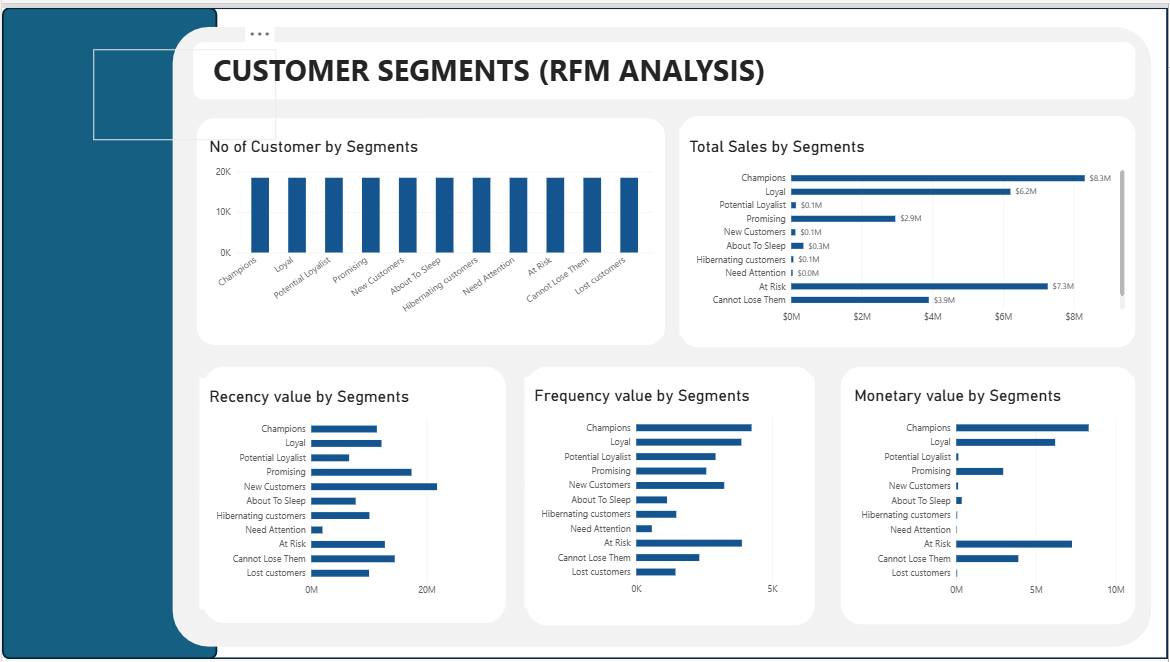

Layout of this report page (visuals, bound fields, positions):
{"tool":"powerbi","page":{"name":"Customer Segementation","canvas":[1920,1080],"ordinal":1},"visuals":[{"type":"columnChart","title":"No of Customer by Segments","fields":{"Category":["Segments Table.Segment"],"Y":["CountNonNull(DimCustomer.CustomerKey)"]},"box":[325.2,197.6,763.6,341.7],"z":0},{"type":"clusteredBarChart","title":"Total Sales by Segments","fields":{"Category":["Segments Table.Segment"],"Y":["Sum(FactInternetSales.SalesAmount)"]},"box":[1115.6,197.6,749.2,341.7],"z":1000},{"type":"barChart","title":"Recency value by Segments","fields":{"Y":["Sum(RFM Table.Recency value)"],"Category":["Segments Table.Segment"]},"box":[325.2,609.3,500.2,380.8],"z":2000},{"type":"barChart","title":"Frequency value by Segments","fields":{"Category":["Segments Table.Segment"],"Y":["Sum(RFM Table.Frequency Value)"]},"box":[860.4,607.2,477.5,380.8],"z":3000},{"type":"barChart","title":"Monetary value by Segments","fields":{"Category":["Segments Table.Segment"],"Y":["Sum(RFM Table.Monetary Value)"]},"box":[1387.3,607.2,477.5,382.8],"z":4000},{"type":"textbox","box":[150,68.5,300,150],"z":5000},{"type":"textbox","box":[347.5,67.5,1055,75],"z":6000}]}

Visuals, with their boxes in screenshot pixels (x1, y1, x2, y2), scaled from the page's 1920x1080 canvas onto the 1170x662 screenshot:
"No of Customer by Segments" columnChart: l=198, t=121, r=663, b=331
"Total Sales by Segments" clusteredBarChart: l=680, t=121, r=1136, b=331
"Recency value by Segments" barChart: l=198, t=373, r=503, b=607
"Frequency value by Segments" barChart: l=524, t=372, r=815, b=606
"Monetary value by Segments" barChart: l=845, t=372, r=1136, b=607
textbox: l=91, t=42, r=274, b=134
textbox: l=212, t=41, r=855, b=87
